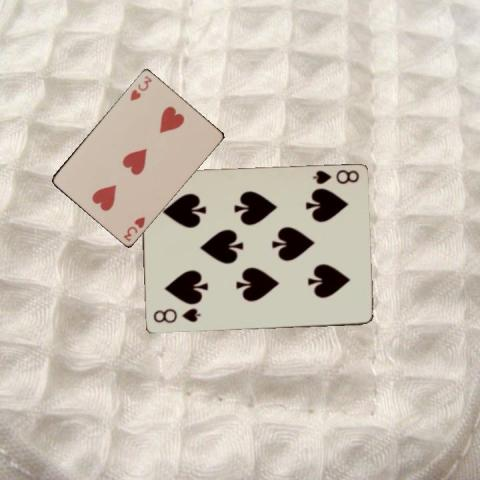3h: (120, 213, 146, 243), (127, 73, 153, 102)
8s: (150, 305, 202, 325), (309, 167, 360, 186)
